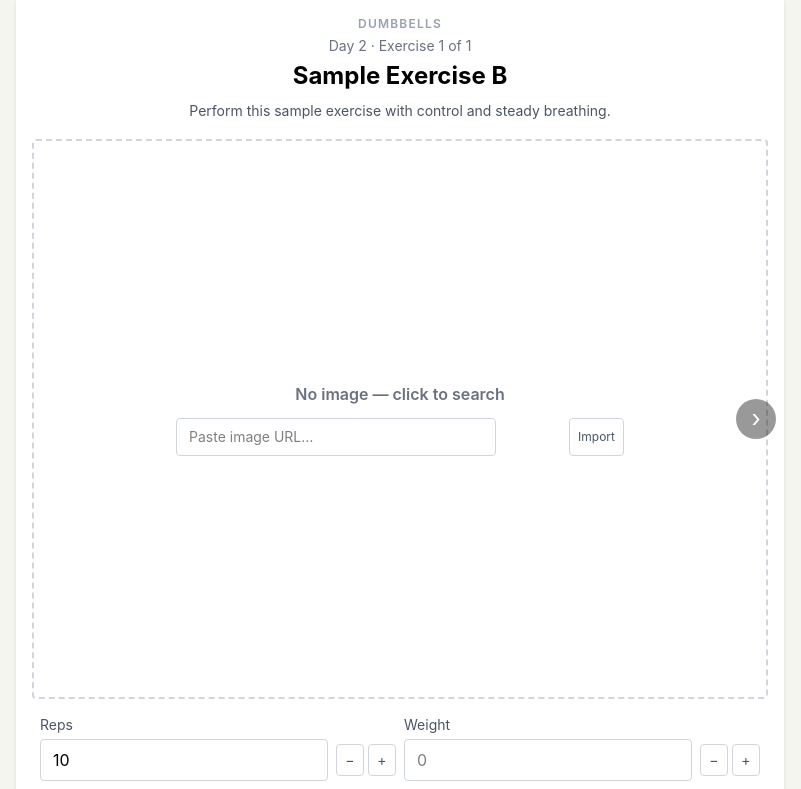
Scenario: App › shows the workout type name on the summary screen
The image size is (801, 789).
Click the button named "Finish": [756, 419] box [736,399,776,439]
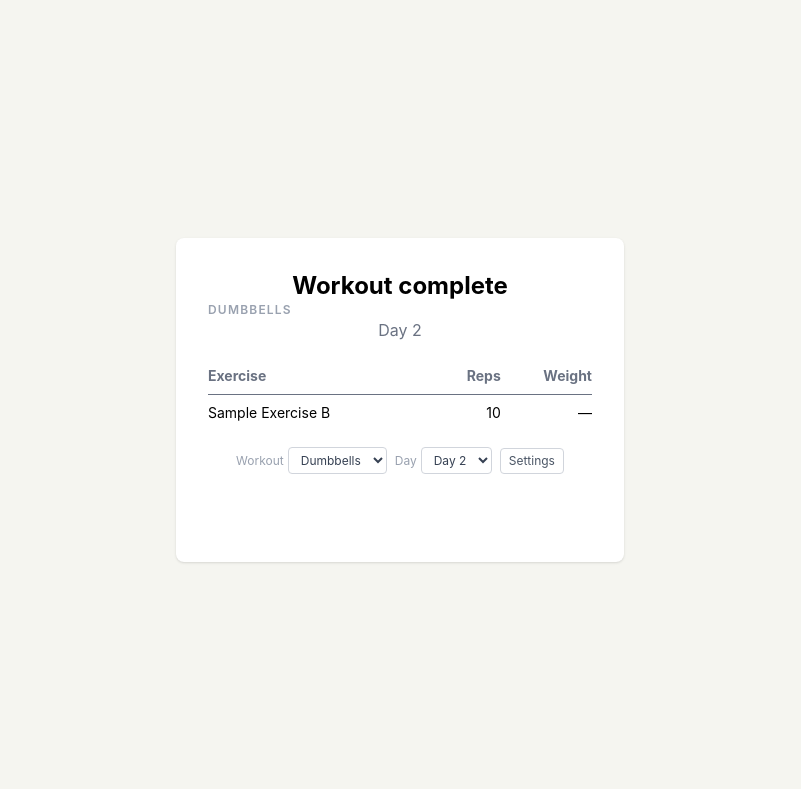
Expected: the text "Dumbbells" is shown, [208,302,292,317]
Expected: the heading "Workout complete" is shown, [292,271,508,300]
